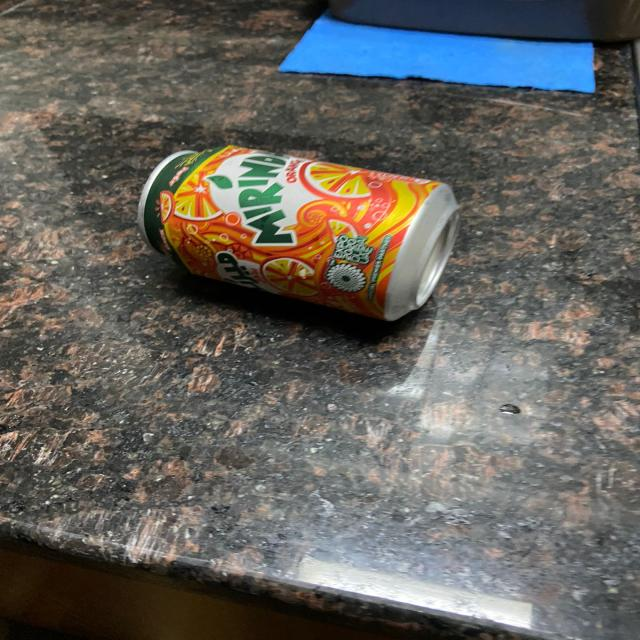non-organic waste: (131, 140, 464, 328)
